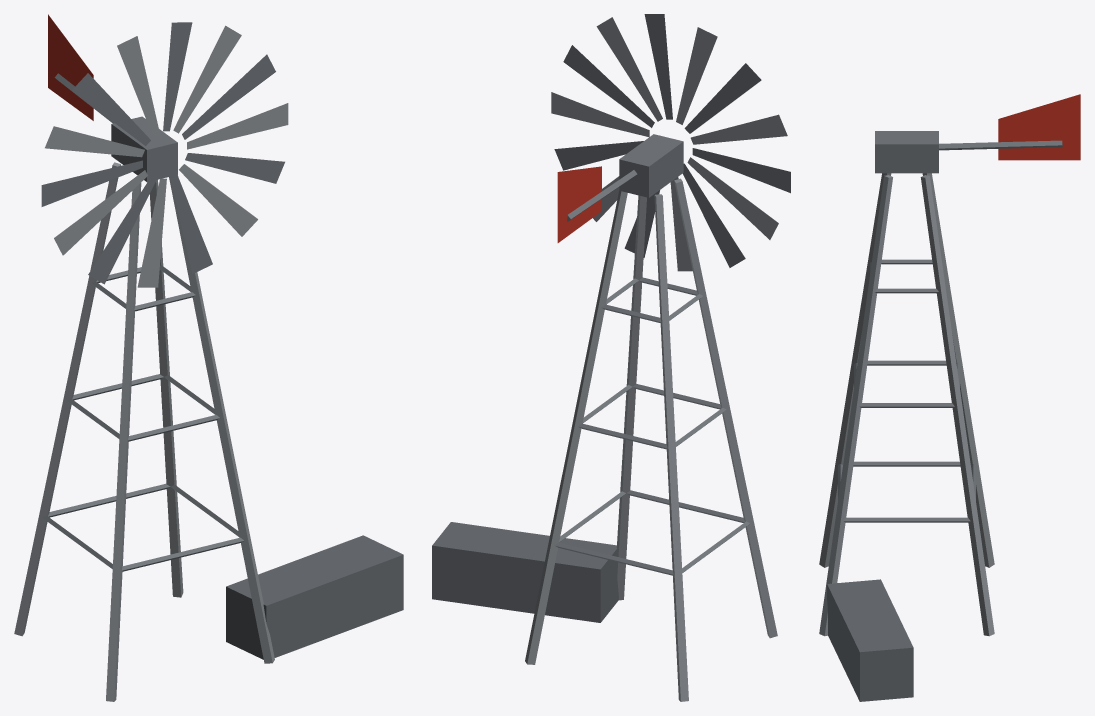
Rendered from windpump.glb.
The picture shows the model from 3 angles, left to right: view 1: azimuth 30°, elevation 25°; view 2: azimuth 150°, elevation 25°; view 3: azimuth 270°, elevation 25°; orthographic projection. The views are drawn at different scales.
Visible parts, largest first — view 1: windpump2; view 2: windpump2; view 3: windpump2.
Part boxes in pixels (x1,y1,x2,y2): windpump2: (14,14,403,701); windpump2: (432,14,790,701); windpump2: (819,94,1080,701).
Bounding box in the file's own units: 3.23 × 5.54 × 2.29.
